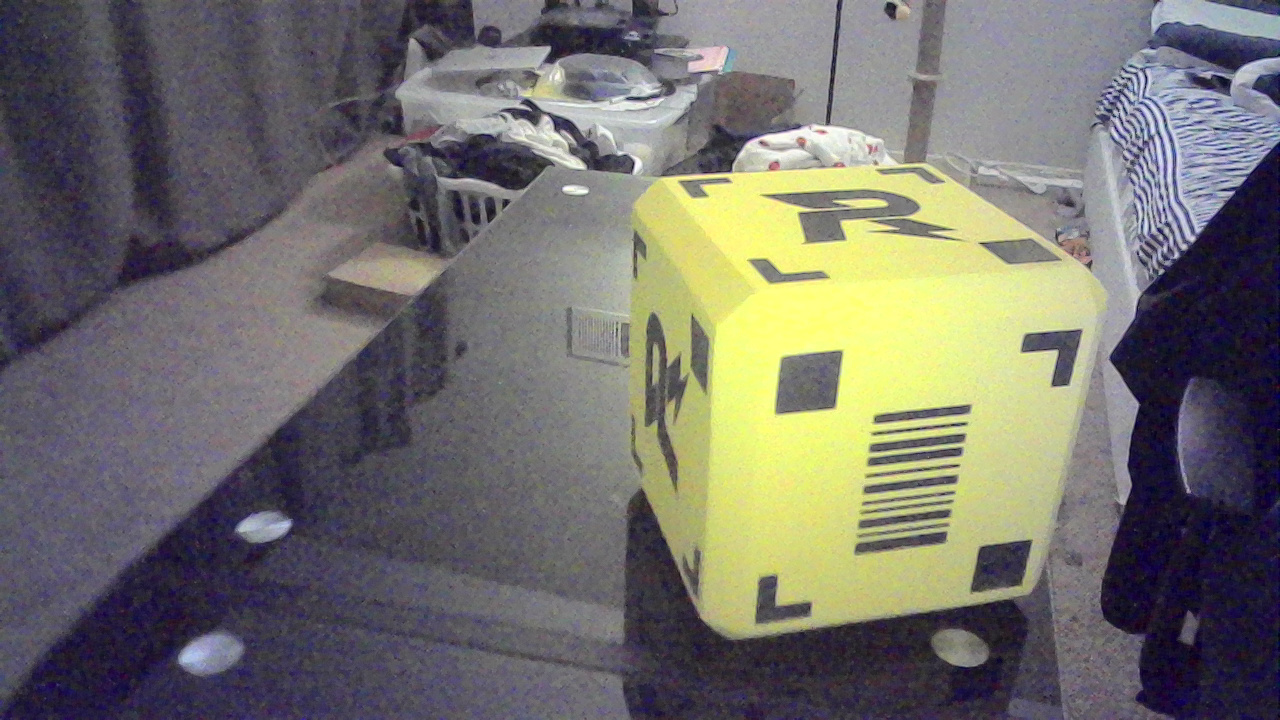Barcode: (861, 404, 975, 555)
R: (778, 182, 952, 256), (634, 312, 706, 475)
